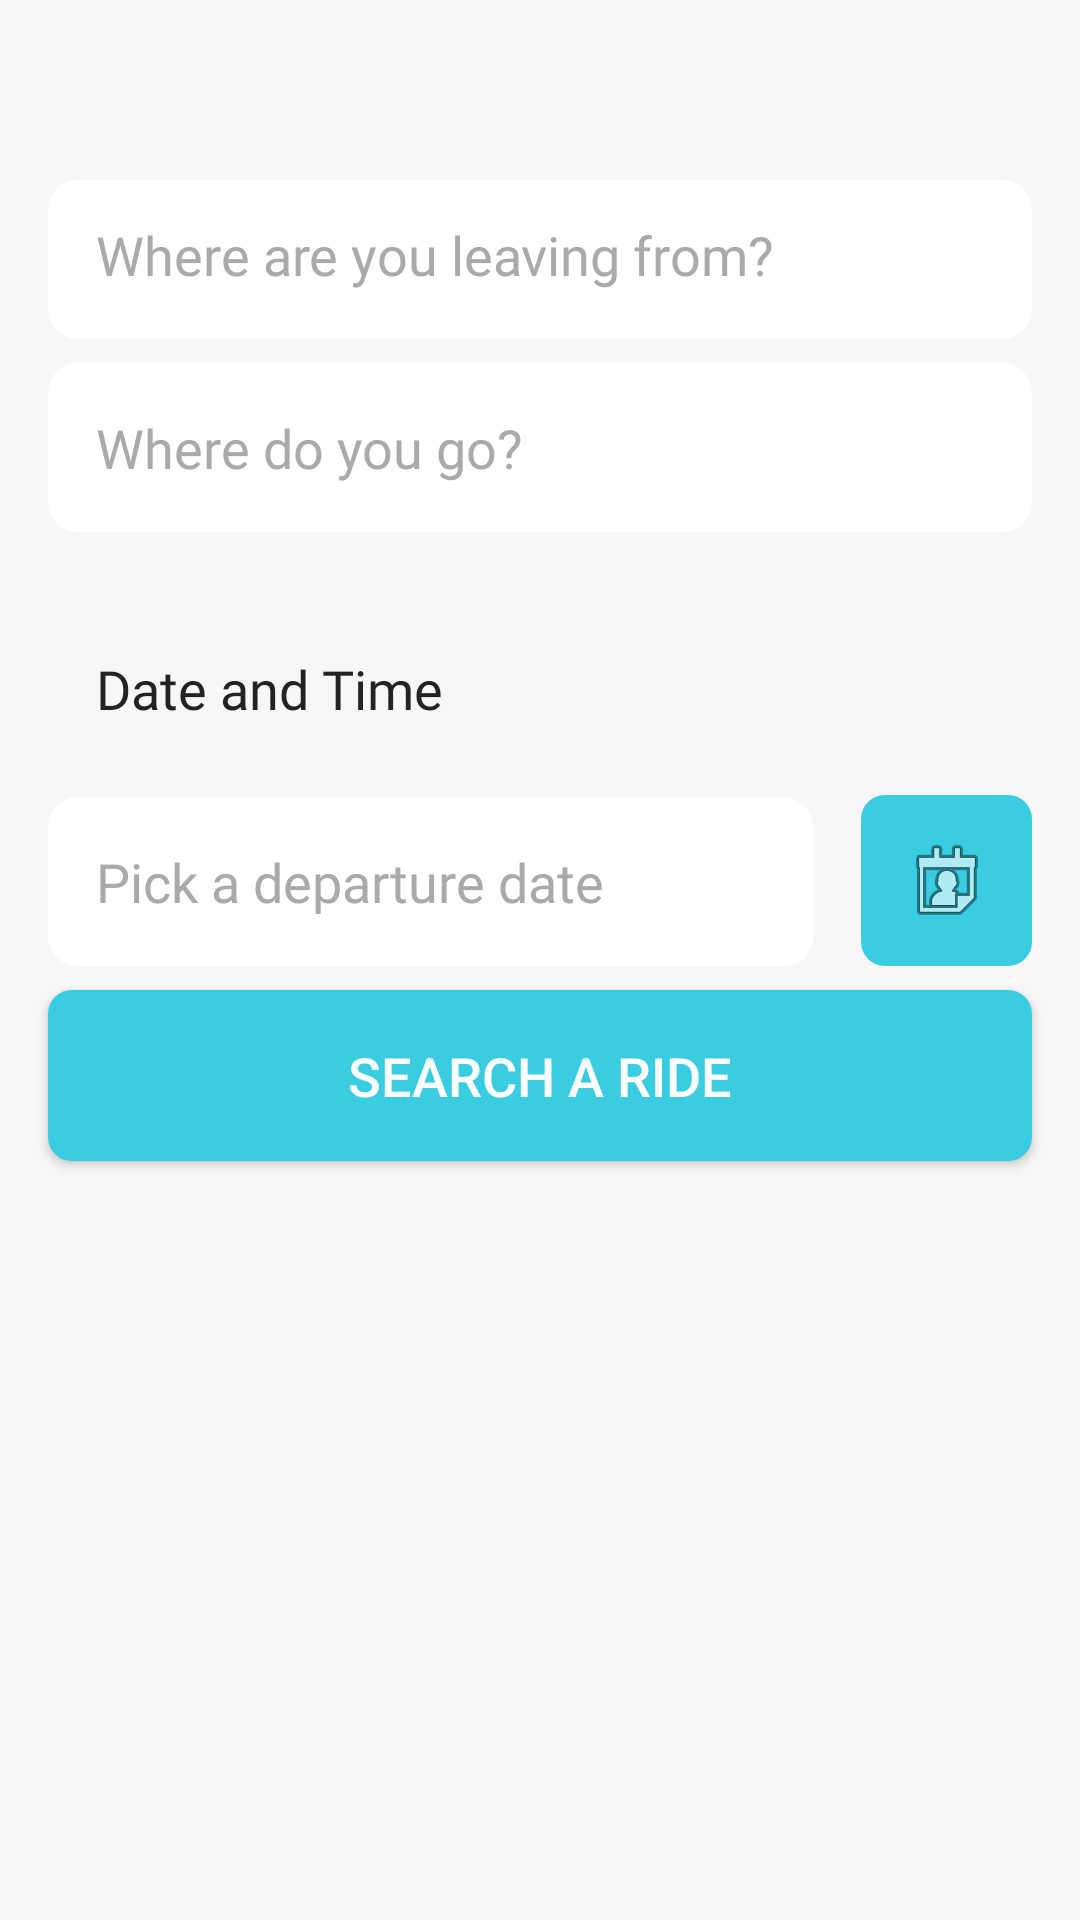

Named icons in this screenshot (1080w x 1920h) and their centers, (x=x, y=y):
calendar: (x=946, y=880)
